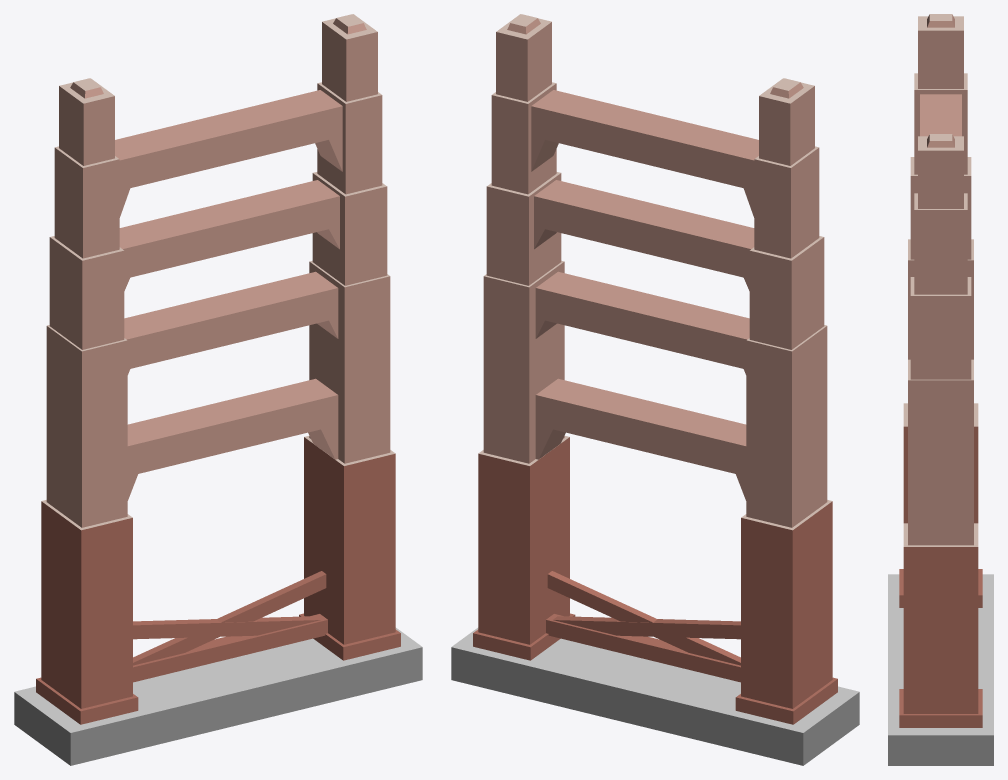
File: bridge_tower_001.fbx
3 renders of one model, left to right at view 1: azimuth 30°, elevation 25°; view 2: azimuth 150°, elevation 25°; view 3: azimuth 270°, elevation 25°, orthographic. The views are drawn at different scales.
Visible parts, largest first — view 1: bridge tower_001; view 2: bridge tower_001; view 3: bridge tower_001.
Boxes of the visible parts, box(x1,y1,x2,y2) form: bridge tower_001: box(14, 14, 422, 765); bridge tower_001: box(451, 14, 859, 765); bridge tower_001: box(888, 14, 993, 765).
Bounding box in the file's own units: 2315 × 4081 × 643.
